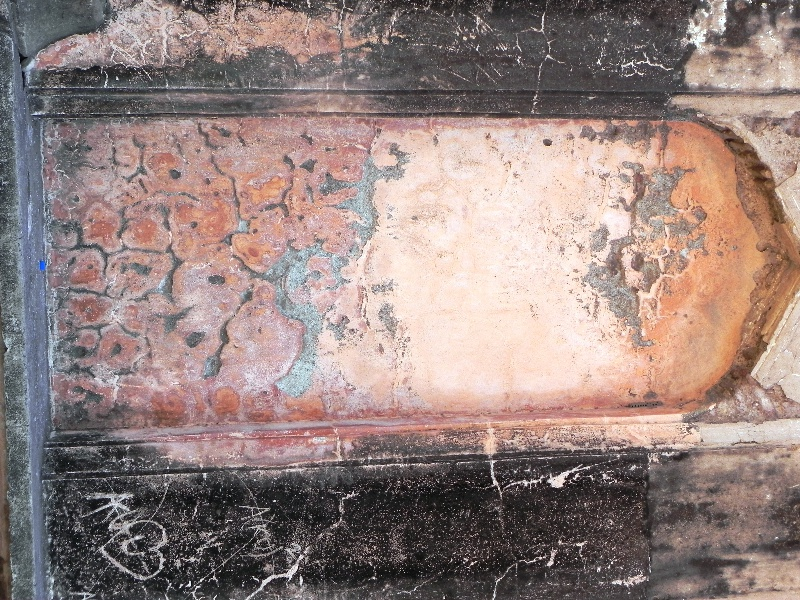Spalling: (593, 162, 679, 343)
